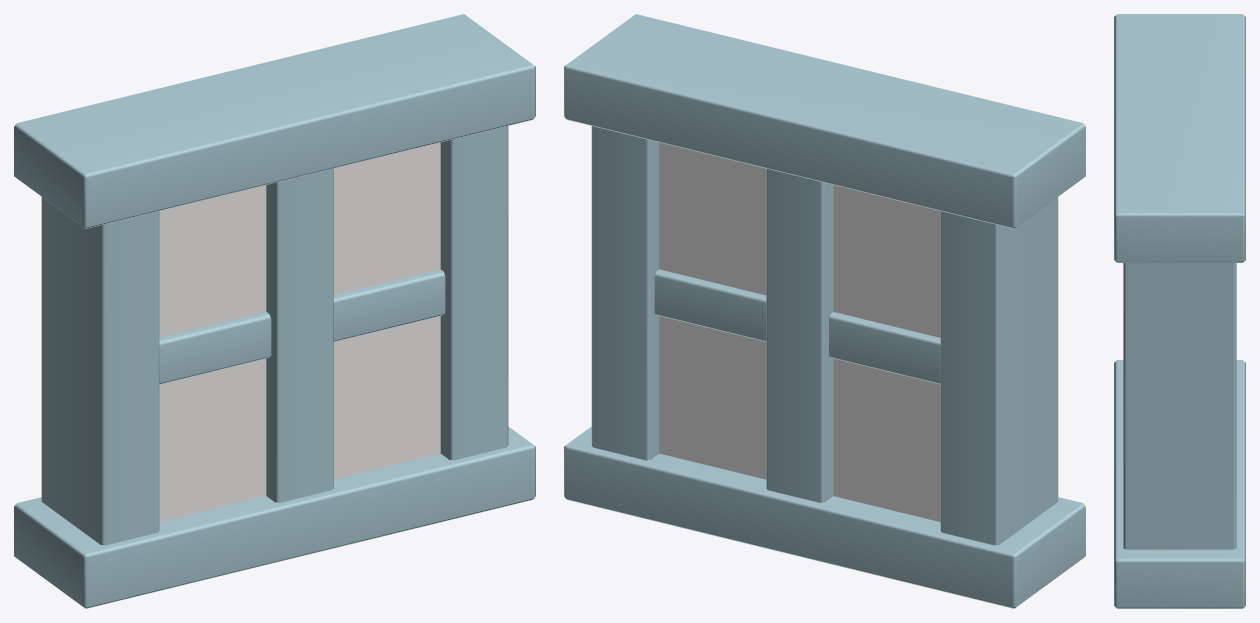
The model's file is Window_9.glb.
3 renders of one model, left to right at view 1: azimuth 30°, elevation 25°; view 2: azimuth 150°, elevation 25°; view 3: azimuth 270°, elevation 25°, orthographic. The views are drawn at different scales.
Parts seen in each view (by area): view 1: Window_18; view 2: Window_18; view 3: Window_18.
Boxes of the visible parts, <box> form: Window_18: <box>14,14,535,608</box>; Window_18: <box>564,14,1085,608</box>; Window_18: <box>1114,14,1245,608</box>.
Bounding box in the file's own units: 1.86 × 1.7 × 0.5133.
2 materials, 2 textured.
